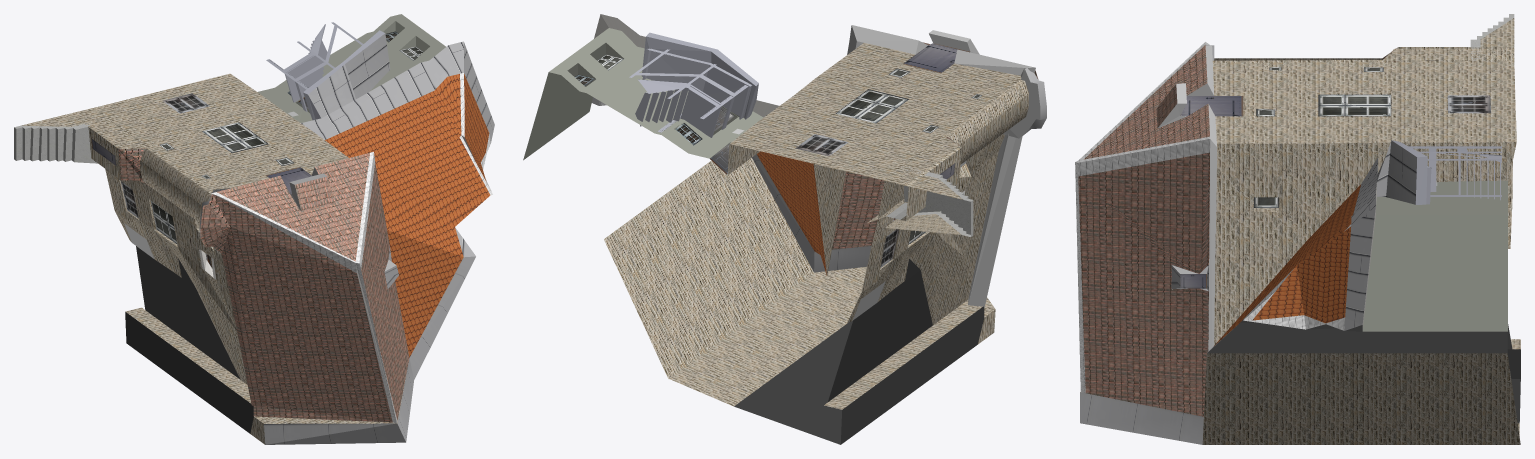
Rendered from Vene_6_2-origo.obj.
The picture shows the model from 3 angles, left to right: view 1: azimuth 30°, elevation 25°; view 2: azimuth 150°, elevation 25°; view 3: azimuth 270°, elevation 25°; orthographic projection. The views are drawn at different scales.
Visible parts, largest first — view 1: Vene_6_2; view 2: Vene_6_2; view 3: Vene_6_2.
Boxes of the visible parts, <box> form: Vene_6_2: <box>14,14,494,444</box>; Vene_6_2: <box>523,14,1046,444</box>; Vene_6_2: <box>1075,14,1520,444</box>.
Bounding box in the file's own units: 20.44 × 13.5 × 15.64.
